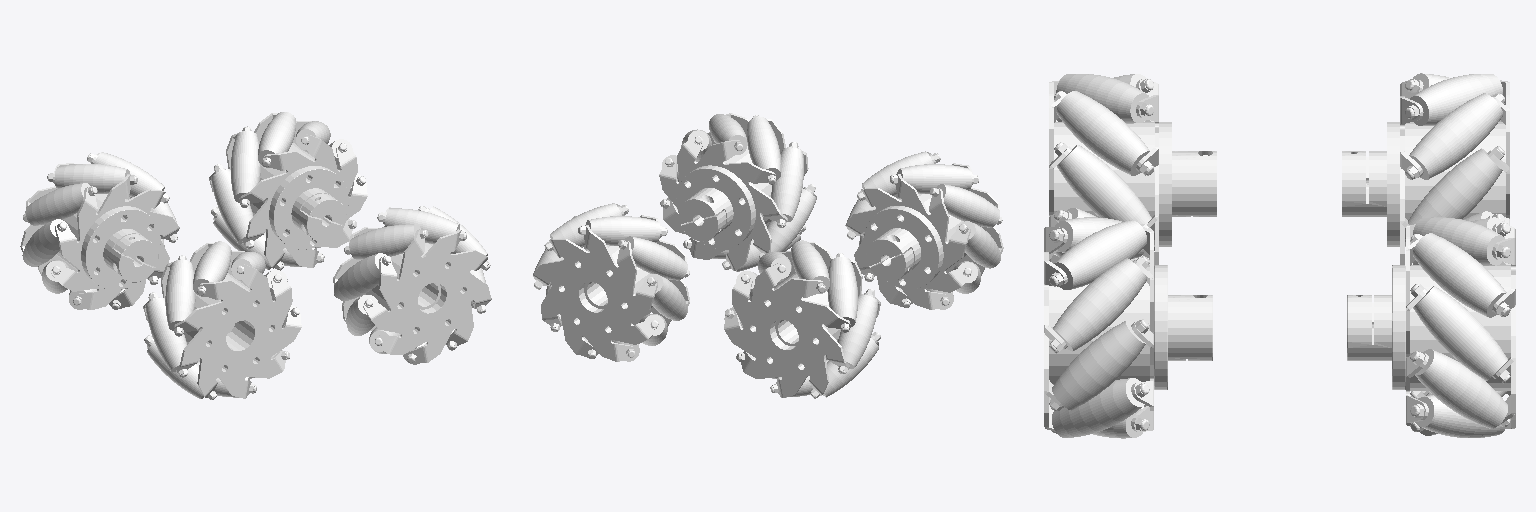
The robot description file, URDF, robot "mini_akm_robot":
<?xml version="1.0" encoding="utf-8"?>
<!-- This URDF was automatically created by SolidWorks to URDF Exporter! Originally created by [author] ([email redacted]) 
     Commit Version: 1.6.0-4-g7f85cfe  Build Version: 1.6.7995.38578
     For more information, please see http://wiki.ros.org/sw_urdf_exporter -->
<robot
  name="mini_akm_robot">
  <link
    name="base_link">
    <inertial>
      <origin
        xyz="-0.0119754973846389 -0.000133372463647142 0.021017784029409"
        rpy="0 0 0" />
      <mass
        value="0.431538267108837" />
      <inertia
        ixx="0.00025452933099881"
        ixy="1.90798049636859E-06"
        ixz="-8.81627294628033E-07"
        iyy="0.00037243817570695"
        iyz="4.03071469874943E-07"
        izz="0.000540327179164314" />
    </inertial>
    <visual>
      <origin
        xyz="0 0 0"
        rpy="0 0 0" />
      <geometry>
        <mesh
          filename="package://turn_on_wheeltec_robot/meshes/mini_akm_robot_meshes/base_link.STL" />
      </geometry>
      <material
        name="">
        <color
          rgba="0.741176470588235 0.901960784313726 0.956862745098039 1" />
      </material>
    </visual>
    <collision>
      <origin
        xyz="0 0 0"
        rpy="0 0 0" />
      <geometry>
        <mesh
          filename="package://turn_on_wheeltec_robot/meshes/mini_akm_robot_meshes/base_link.STL" />
      </geometry>
    </collision>
  </link>
  <link
    name="lb_link">
    <inertial>
      <origin
        xyz="-1.74588455068014E-07 -0.000208203511794444 3.83077326214509E-08"
        rpy="0 0 0" />
      <mass
        value="0.0456749740999707" />
      <inertia
        ixx="1.81808801892974E-05"
        ixy="-1.7622297358917E-11"
        ixz="3.41287253300913E-12"
        iyy="3.14403863492233E-05"
        iyz="1.33311989069345E-11"
        izz="1.81803662298203E-05" />
    </inertial>
    <visual>
      <origin
        xyz="0 0 0"
        rpy="0 0 0" />
      <geometry>
        <mesh
          filename="package://turn_on_wheeltec_robot/meshes/mini_akm_robot_meshes/lb_link.STL" />
      </geometry>
      <material
        name="">
        <color
          rgba="1 1 1 1" />
      </material>
    </visual>
    <collision>
      <origin
        xyz="0 0 0"
        rpy="0 0 0" />
      <geometry>
        <mesh
          filename="package://turn_on_wheeltec_robot/meshes/mini_akm_robot_meshes/lb_link.STL" />
      </geometry>
    </collision>
  </link>
  <joint
    name="lb_joint"
    type="continuous">
    <origin
      xyz="-0.069657 0.07975 0.0162"
      rpy="0 0 0" />
    <parent
      link="base_link" />
    <child
      link="lb_link" />
    <axis
      xyz="0 -1 0" />
  </joint>
  <link
    name="rb_link">
    <inertial>
      <origin
        xyz="-1.21641156911045E-07 0.000208202847118158 3.82869461863777E-08"
        rpy="0 0 0" />
      <mass
        value="0.0456749740269158" />
      <inertia
        ixx="1.81808800640407E-05"
        ixy="-1.76128053558607E-11"
        ixz="-3.39346241698698E-12"
        iyy="3.14403861845454E-05"
        iyz="-1.33298144631598E-11"
        izz="1.81803661907041E-05" />
    </inertial>
    <visual>
      <origin
        xyz="0 0 0"
        rpy="0 0 0" />
      <geometry>
        <mesh
          filename="package://turn_on_wheeltec_robot/meshes/mini_akm_robot_meshes/rb_link.STL" />
      </geometry>
      <material
        name="">
        <color
          rgba="1 1 1 1" />
      </material>
    </visual>
    <collision>
      <origin
        xyz="0 0 0"
        rpy="0 0 0" />
      <geometry>
        <mesh
          filename="package://turn_on_wheeltec_robot/meshes/mini_akm_robot_meshes/rb_link.STL" />
      </geometry>
    </collision>
  </link>
  <joint
    name="rb_joint"
    type="continuous">
    <origin
      xyz="-0.069657 -0.079776 0.0162"
      rpy="0 0 0" />
    <parent
      link="base_link" />
    <child
      link="rb_link" />
    <axis
      xyz="0 -1 0" />
  </joint>
  <link
    name="front_link">
    <inertial>
      <origin
        xyz="2.47652365809037E-07 -2.27629542054232E-09 2.42861286636753E-17"
        rpy="0 0 0" />
      <mass
        value="0.115265613771811" />
      <inertia
        ixx="0.000198380666923192"
        ixy="-2.44845696267185E-12"
        ixz="-4.08963450598172E-21"
        iyy="2.73732443212511E-05"
        iyz="-3.60301679893399E-20"
        izz="0.000218069536992989" />
    </inertial>
    <visual>
      <origin
        xyz="0 0 0"
        rpy="0 0 0" />
      <geometry>
        <mesh
          filename="package://turn_on_wheeltec_robot/meshes/mini_akm_robot_meshes/front_link.STL" />
      </geometry>
      <material
        name="">
        <color
          rgba="0.349019607843137 0.349019607843137 0.349019607843137 1" />
      </material>
    </visual>
    <collision>
      <origin
        xyz="0 0 0"
        rpy="0 0 0" />
      <geometry>
        <mesh
          filename="package://turn_on_wheeltec_robot/meshes/mini_akm_robot_meshes/front_link.STL" />
      </geometry>
    </collision>
  </link>
  <joint
    name="front_joint"
    type="fixed">
    <origin
      xyz="0.14383 -1.2575E-05 0.01"
      rpy="0 0 0" />
    <parent
      link="base_link" />
    <child
      link="front_link" />
    <axis
      xyz="0 0 0" />
  </joint>
  <link
    name="controller_link">
    <inertial>
      <origin
        xyz="-0.0513531699176342 0.0474963429876354 0.0444073306956666"
        rpy="0 0 0" />
      <mass
        value="0.0335306890026228" />
      <inertia
        ixx="1.91764077163967E-05"
        ixy="9.52727501026462E-07"
        ixz="-5.84384705102991E-08"
        iyy="2.19811763093923E-05"
        iyz="3.14216738930502E-07"
        izz="4.00893380787535E-05" />
    </inertial>
    <visual>
      <origin
        xyz="0 0 0"
        rpy="0 0 0" />
      <geometry>
        <mesh
          filename="package://turn_on_wheeltec_robot/meshes/mini_akm_robot_meshes/controller_link.STL" />
      </geometry>
      <material
        name="">
        <color
          rgba="0.741176470588235 0.901960784313726 0.956862745098039 1" />
      </material>
    </visual>
    <collision>
      <origin
        xyz="0 0 0"
        rpy="0 0 0" />
      <geometry>
        <mesh
          filename="package://turn_on_wheeltec_robot/meshes/mini_akm_robot_meshes/controller_link.STL" />
      </geometry>
    </collision>
  </link>
  <joint
    name="controller_joint"
    type="fixed">
    <origin
      xyz="-0.00035718 -0.04684 0.0515"
      rpy="0 0 0" />
    <parent
      link="base_link" />
    <child
      link="controller_link" />
    <axis
      xyz="0 0 0" />
  </joint>
  <link
    name="laser">
    <inertial>
      <origin
        xyz="0.00196458631092469 -3.57895453832374E-06 -0.000201831632616292"
        rpy="0 0 0" />
      <mass
        value="0.0477519163756088" />
      <inertia
        ixx="3.38461999756745E-05"
        ixy="-2.19897168323003E-09"
        ixz="1.07118468678157E-06"
        iyy="3.94150415873187E-05"
        iyz="6.83978024968062E-10"
        izz="5.60787042126573E-05" />
    </inertial>
    <visual>
      <origin
        xyz="0 0 0"
        rpy="0 0 0" />
      <geometry>
        <mesh
          filename="package://turn_on_wheeltec_robot/meshes/mini_akm_robot_meshes/laser.STL" />
      </geometry>
      <material
        name="">
        <color
          rgba="0.376470588235294 0.376470588235294 0.376470588235294 1" />
      </material>
    </visual>
    <collision>
      <origin
        xyz="0 0 0"
        rpy="0 0 0" />
      <geometry>
        <mesh
          filename="package://turn_on_wheeltec_robot/meshes/mini_akm_robot_meshes/laser.STL" />
      </geometry>
    </collision>
  </link>
  <joint
    name="laser_joint"
    type="fixed">
    <origin
      xyz="0.051343 -1.2576E-05 0.094524"
      rpy="0 0 3.1416" />
    <parent
      link="base_link" />
    <child
      link="laser" />
    <axis
      xyz="0 0 0" />
  </joint>
  <link
    name="camera_link">
    <inertial>
      <origin
        xyz="-3.06765765623052E-07 -3.53954314998039E-07 1.07624439471543E-07"
        rpy="0 0 0" />
      <mass
        value="0.0559842512064702" />
      <inertia
        ixx="0.00013081095933833"
        ixy="1.20255127788037E-07"
        ixz="1.62335437066495E-06"
        iyy="1.91148634964856E-05"
        iyz="-2.80016753180902E-08"
        izz="0.000131387469522011" />
    </inertial>
    <visual>
      <origin
        xyz="0 0 0"
        rpy="0 0 0" />
      <geometry>
        <mesh
          filename="package://turn_on_wheeltec_robot/meshes/mini_akm_robot_meshes/camera_link.STL" />
      </geometry>
      <material
        name="">
        <color
          rgba="1 1 1 1" />
      </material>
    </visual>
    <collision>
      <origin
        xyz="0 0 0"
        rpy="0 0 0" />
      <geometry>
        <mesh
          filename="package://turn_on_wheeltec_robot/meshes/mini_akm_robot_meshes/camera_link.STL" />
      </geometry>
    </collision>
  </link>
  <joint
    name="camera_joint"
    type="fixed">
    <origin
      xyz="0.11365 0.00016542 0.076204"
      rpy="0 0 0" />
    <parent
      link="base_link" />
    <child
      link="camera_link" />
    <axis
      xyz="0 0 0" />
  </joint>
  <link
    name="left_link">
    <inertial>
      <origin
        xyz="-0.00429085747483857 0.0111736945302178 -0.0110145847149603"
        rpy="0 0 0" />
      <mass
        value="0.00476959924663217" />
      <inertia
        ixx="2.06909949437508E-07"
        ixy="-1.04973296356064E-07"
        ixz="-1.49927893294707E-09"
        iyy="3.93341439527907E-07"
        iyz="-5.98007533541798E-10"
        izz="4.63369851558769E-07" />
    </inertial>
    <visual>
      <origin
        xyz="0 0 0"
        rpy="0 0 0" />
      <geometry>
        <mesh
          filename="package://turn_on_wheeltec_robot/meshes/mini_akm_robot_meshes/left_link.STL" />
      </geometry>
      <material
        name="">
        <color
          rgba="0.741176470588235 0.901960784313726 0.956862745098039 1" />
      </material>
    </visual>
    <collision>
      <origin
        xyz="0 0 0"
        rpy="0 0 0" />
      <geometry>
        <mesh
          filename="package://turn_on_wheeltec_robot/meshes/mini_akm_robot_meshes/left_link.STL" />
      </geometry>
    </collision>
  </link>
  <joint
    name="left_joint"
    type="revolute">
    <origin
      xyz="0.073593 0.051987 0.022"
      rpy="0 0 0" />
    <parent
      link="base_link" />
    <child
      link="left_link" />
    <axis
      xyz="0 0 -1" />
    <limit
      lower="-0.39"
      upper="0.39"
      effort="0"
      velocity="0" />
  </joint>
  <link
    name="lf_link">
    <inertial>
      <origin
        xyz="-1.41585548674161E-07 1.91747322367264E-07 -4.64079716027549E-08"
        rpy="0 0 0" />
      <mass
        value="0.0441313542614254" />
      <inertia
        ixx="1.8122375254286E-05"
        ixy="1.01605691640891E-11"
        ixz="3.10311319459123E-12"
        iyy="3.14074902671165E-05"
        iyz="-3.35423251171137E-13"
        izz="1.81223732297953E-05" />
    </inertial>
    <visual>
      <origin
        xyz="0 0 0"
        rpy="0 0 0" />
      <geometry>
        <mesh
          filename="package://turn_on_wheeltec_robot/meshes/mini_akm_robot_meshes/lf_link.STL" />
      </geometry>
      <material
        name="">
        <color
          rgba="1 1 1 1" />
      </material>
    </visual>
    <collision>
      <origin
        xyz="0 0 0"
        rpy="0 0 0" />
      <geometry>
        <mesh
          filename="package://turn_on_wheeltec_robot/meshes/mini_akm_robot_meshes/lf_link.STL" />
      </geometry>
    </collision>
  </link>
  <joint
    name="lf_point"
    type="continuous">
    <origin
      xyz="0 0.0301260014087184 -0.0109999999999987"
      rpy="0 0 0" />
    <parent
      link="left_link" />
    <child
      link="lf_link" />
    <axis
      xyz="0 -1 0" />
  </joint>
  <link
    name="right_link">
    <inertial>
      <origin
        xyz="-0.00429085795403265 -0.0111736943537972 -0.0109854152864204"
        rpy="0 0 0" />
      <mass
        value="0.00476959923857933" />
      <inertia
        ixx="2.06909958805082E-07"
        ixy="1.0497330410809E-07"
        ixz="1.4992787833529E-09"
        iyy="3.9334142732894E-07"
        iyz="-5.98007566775091E-10"
        izz="4.63369848741371E-07" />
    </inertial>
    <visual>
      <origin
        xyz="0 0 0"
        rpy="0 0 0" />
      <geometry>
        <mesh
          filename="package://turn_on_wheeltec_robot/meshes/mini_akm_robot_meshes/right_link.STL" />
      </geometry>
      <material
        name="">
        <color
          rgba="0.741176470588235 0.901960784313726 0.956862745098039 1" />
      </material>
    </visual>
    <collision>
      <origin
        xyz="0 0 0"
        rpy="0 0 0" />
      <geometry>
        <mesh
          filename="package://turn_on_wheeltec_robot/meshes/mini_akm_robot_meshes/right_link.STL" />
      </geometry>
    </collision>
  </link>
  <joint
    name="right_joint"
    type="revolute">
    <origin
      xyz="0.0735933420063898 -0.0520125752742397 0.0219999999999997"
      rpy="0 0 0" />
    <parent
      link="base_link" />
    <child
      link="right_link" />
    <axis
      xyz="0 0 1" />
    <limit
      lower="-0.39"
      upper="0.39"
      effort="0"
      velocity="0" />
  </joint>
  <link
    name="rf_link">
    <inertial>
      <origin
        xyz="-1.82018104019632E-07 -1.9296458401985E-07 -3.39361436400148E-08"
        rpy="0 0 0" />
      <mass
        value="0.0441313541199343" />
      <inertia
        ixx="1.81223720754189E-05"
        ixy="8.14282826550161E-12"
        ixz="-2.30932816847721E-12"
        iyy="3.14074908686231E-05"
        iyz="-6.6892241788197E-12"
        izz="1.81223769687268E-05" />
    </inertial>
    <visual>
      <origin
        xyz="0 0 0"
        rpy="0 0 0" />
      <geometry>
        <mesh
          filename="package://turn_on_wheeltec_robot/meshes/mini_akm_robot_meshes/rf_link.STL" />
      </geometry>
      <material
        name="">
        <color
          rgba="1 1 1 1" />
      </material>
    </visual>
    <collision>
      <origin
        xyz="0 0 0"
        rpy="0 0 0" />
      <geometry>
        <mesh
          filename="package://turn_on_wheeltec_robot/meshes/mini_akm_robot_meshes/rf_link.STL" />
      </geometry>
    </collision>
  </link>
  <joint
    name="rf_joint"
    type="continuous">
    <origin
      xyz="0 -0.0301260001523718 -0.0109999999999997"
      rpy="0 0 0" />
    <parent
      link="right_link" />
    <child
      link="rf_link" />
    <axis
      xyz="0 -1 0" />
  </joint>
</robot>

--- What the picture shows (computed from the rendered views, not written in the file) ---
3 views of the same robot in one strip: view 1: azimuth 30°, elevation 25°; view 2: azimuth 150°, elevation 25°; view 3: azimuth 270°, elevation 25° (orthographic).
Model mini_akm_robot with 11 links and 10 joints (2 revolute, 4 continuous, 4 fixed), rooted at base_link, posed every joint at zero.
Visible links, largest first — view 1: rf_link, rb_link, lb_link, lf_link; view 2: lb_link, lf_link, rb_link, rf_link; view 3: lf_link, rf_link, rb_link, lb_link.
Boxes of the visible links, <box> form: rf_link: <box>333,206,491,364</box>; rb_link: <box>143,241,301,399</box>; lb_link: <box>20,152,179,309</box>; lf_link: <box>209,112,367,270</box>; lb_link: <box>724,240,880,398</box>; lf_link: <box>533,203,689,361</box>; rb_link: <box>845,151,1003,309</box>; rf_link: <box>659,113,816,271</box>; lf_link: <box>1347,217,1515,437</box>; rf_link: <box>1044,217,1212,438</box>; rb_link: <box>1049,74,1216,265</box>; lb_link: <box>1342,73,1509,265</box>.
Size in the robot's own frame: 0.2439 by 0.214 by 0.1058 metres.
4 mesh visuals loaded from 11 distinct referenced files (4 binary STL); not drawn: 7 (reference not matched to a file when rendering).